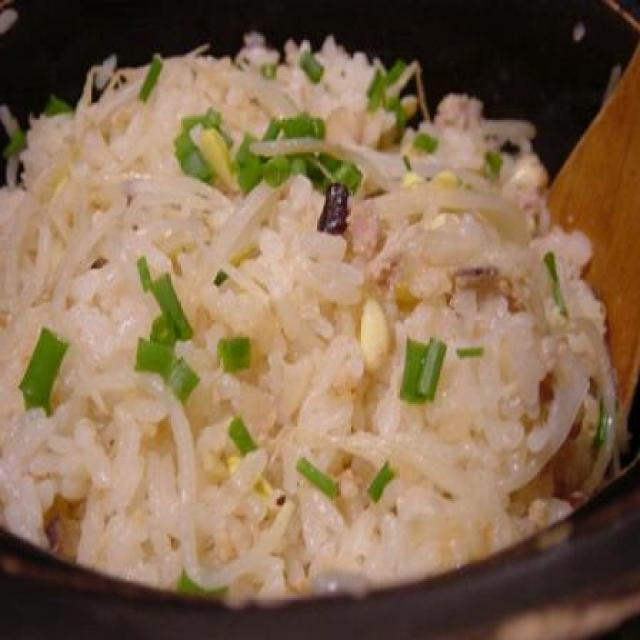米饭主食: (0, 53, 620, 587)
